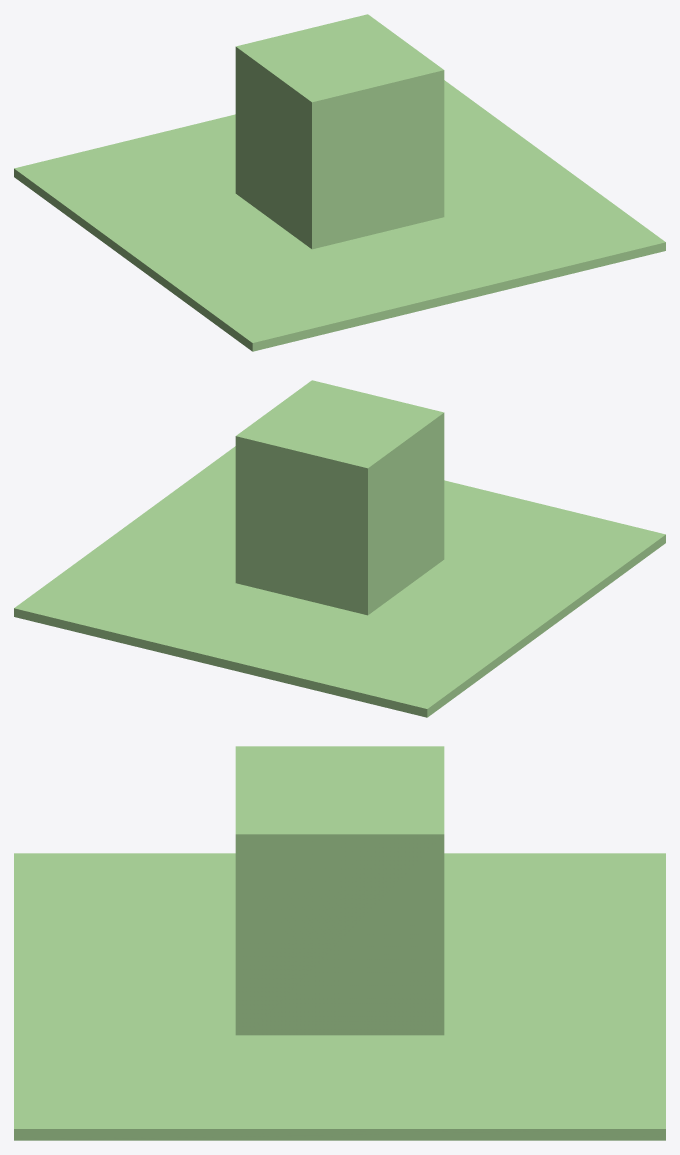
3 renders of one model, top to bottom at view 1: azimuth 30°, elevation 25°; view 2: azimuth 150°, elevation 25°; view 3: azimuth 270°, elevation 25°, orthographic. The views are drawn at different scales.
Visible parts, largest first — view 1: Quarter 1 0, Tower 1 0; view 2: Quarter 1 0, Tower 1 0; view 3: Quarter 1 0, Tower 1 0.
Boxes of the visible parts, <box> form: Quarter 1 0: <box>14,80,665,351</box>; Tower 1 0: <box>235,14,444,249</box>; Quarter 1 0: <box>14,446,665,717</box>; Tower 1 0: <box>235,380,444,615</box>; Quarter 1 0: <box>14,853,665,1140</box>; Tower 1 0: <box>235,746,444,1035</box>.
Size of the model in its own units: 50 by 18 by 50.
